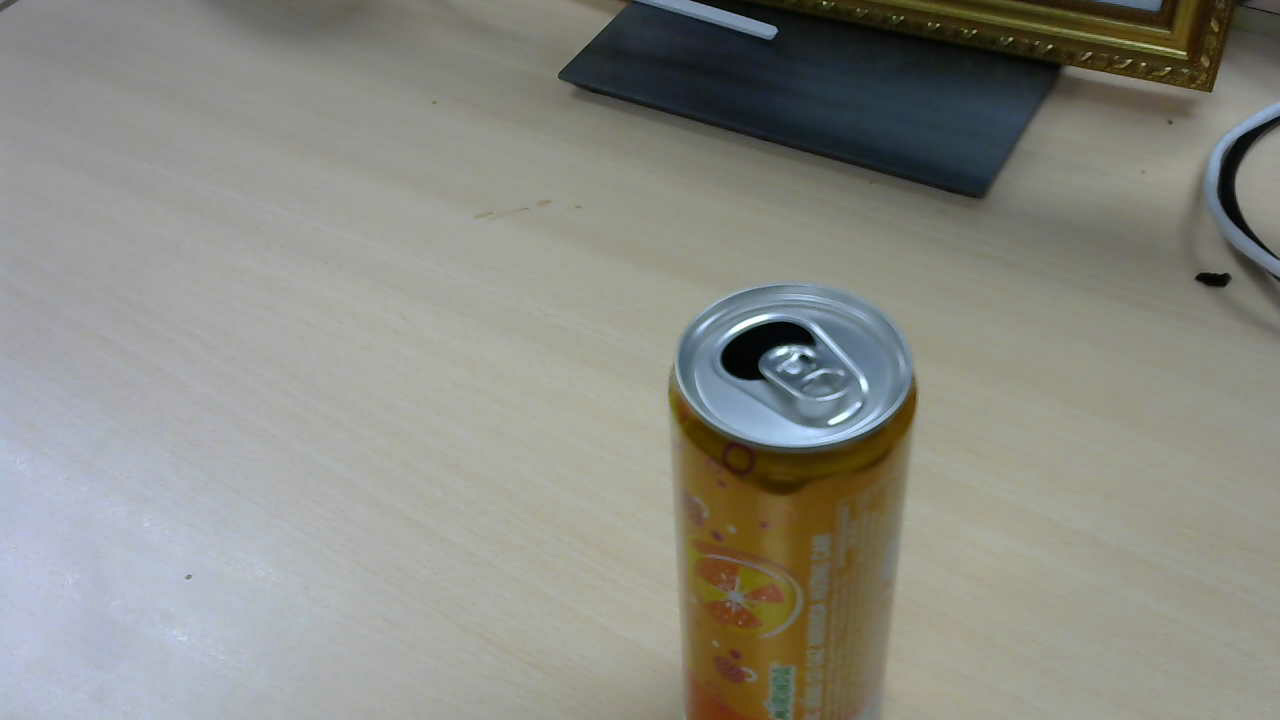Mirinda: (674, 289, 929, 696)
